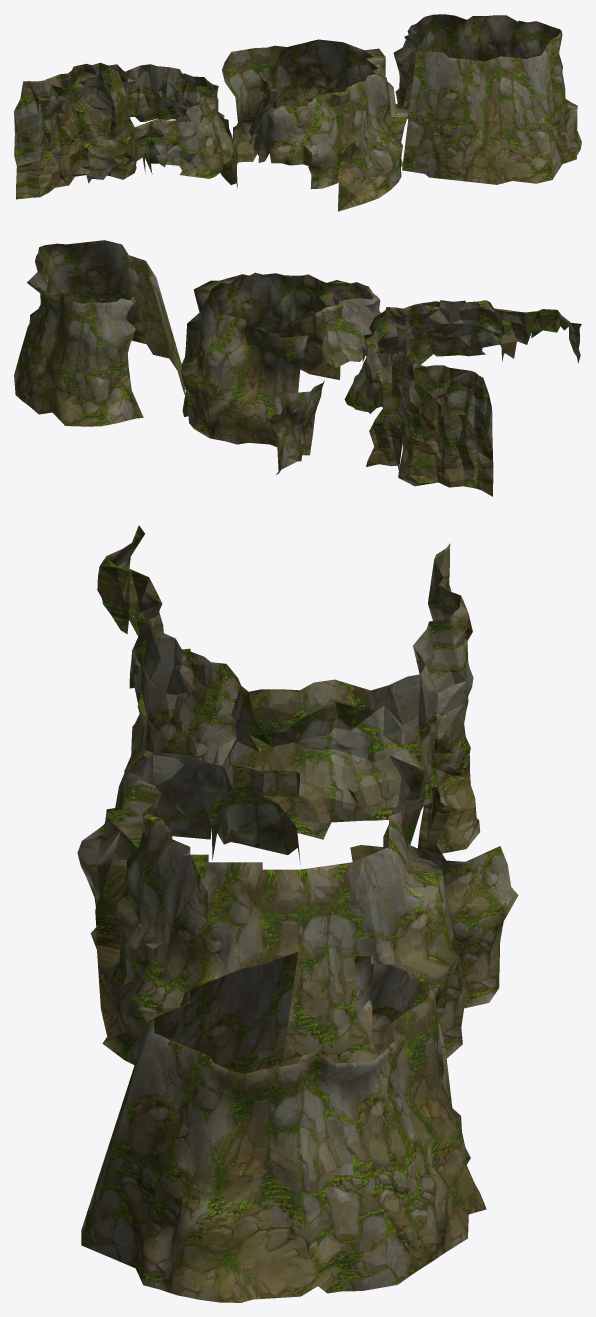
The model's file is SV_MOT_xinshou_shanbi.FBX.
The picture shows the model from 3 angles, top to bottom: view 1: azimuth 30°, elevation 25°; view 2: azimuth 150°, elevation 25°; view 3: azimuth 270°, elevation 25°; orthographic projection. The views are drawn at different scales.
Visible parts, largest first — view 1: SV_MOT_xinshou_rock_5; view 2: SV_MOT_xinshou_rock_5; view 3: SV_MOT_xinshou_rock_5.
Boxes of the visible parts, bbox=[...] form: SV_MOT_xinshou_rock_5: bbox=[14, 14, 581, 211]; SV_MOT_xinshou_rock_5: bbox=[14, 240, 581, 496]; SV_MOT_xinshou_rock_5: bbox=[77, 525, 518, 1302].
Size of the model in its own units: 111 by 28.99 by 40.81.
Materials: 1 (1 with a texture image).
